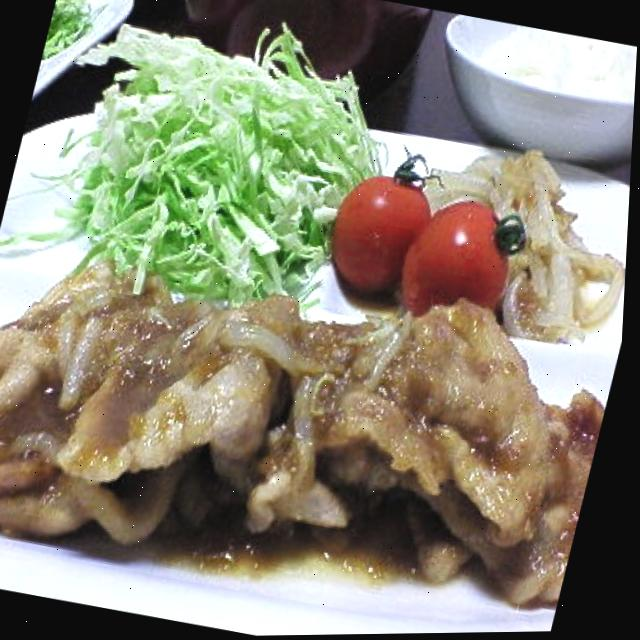猪肉菜式: (0, 167, 633, 640)
